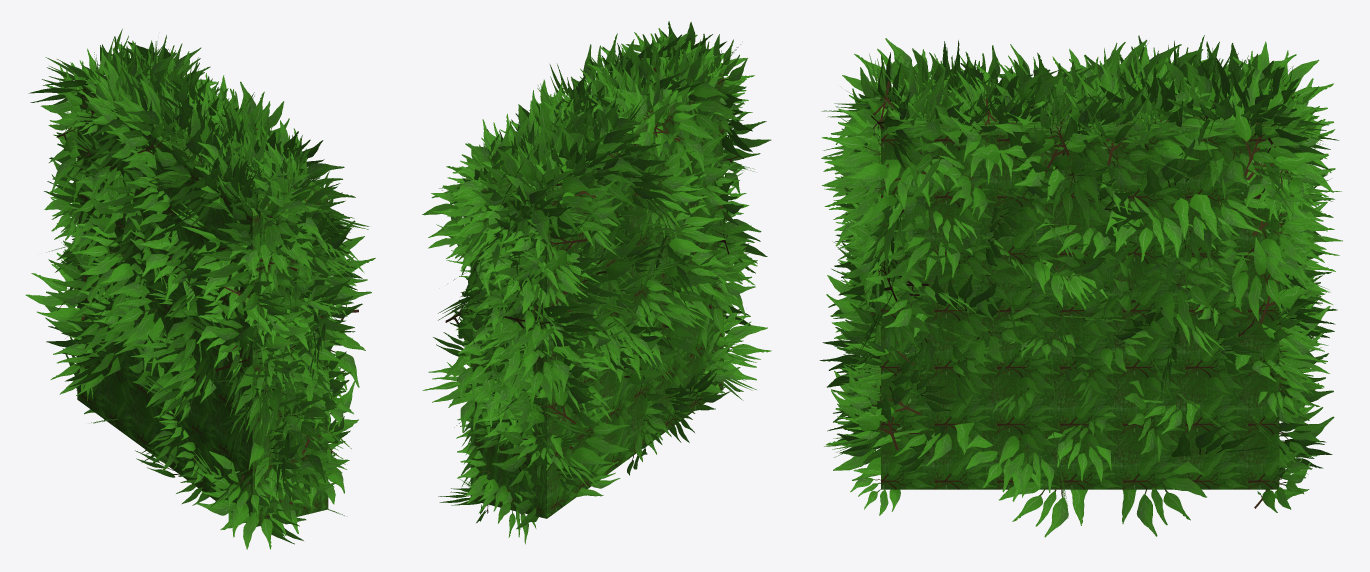
File: Bush.fbx
3 renders of one model, left to right at view 1: azimuth 30°, elevation 25°; view 2: azimuth 150°, elevation 25°; view 3: azimuth 270°, elevation 25°, orthographic. The views are drawn at different scales.
Visible parts, largest first — view 1: Bush_LOD0; view 2: Bush_LOD0; view 3: Bush_LOD0.
Boxes of the visible parts, x1,y1,x2,y2 form: Bush_LOD0: (25, 28, 375, 549); Bush_LOD0: (422, 21, 771, 544); Bush_LOD0: (819, 35, 1342, 537).
Size of what is drawn, in the model's own units: 511 by 1065 by 1096.
